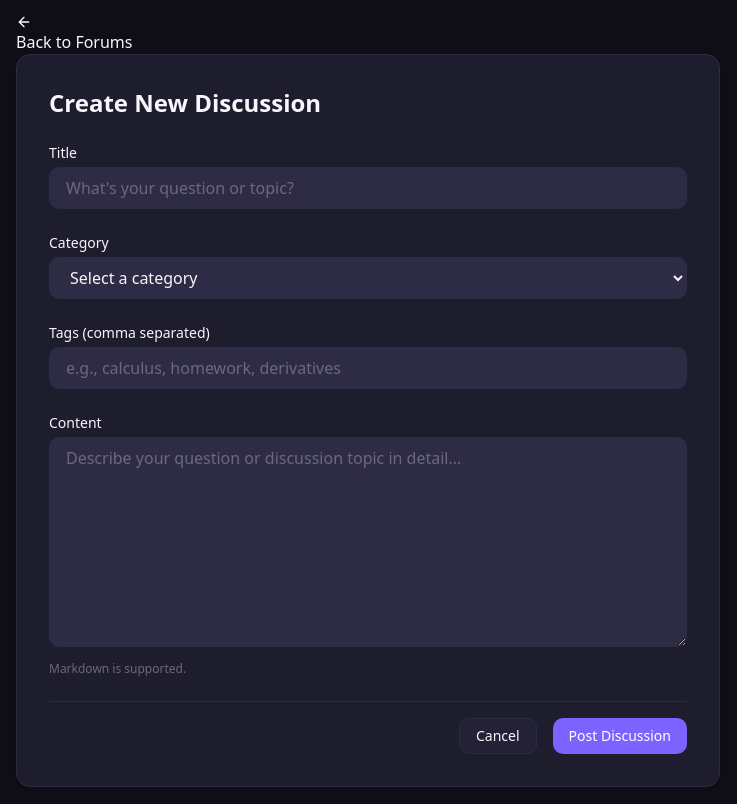
Scenario: CreateForumPostPage › shows spinner on submit button while loading
In the field with placeholder "What's your question or topic?": x=368, y=188 [49, 167, 687, 209], type "How to solve integrals?"
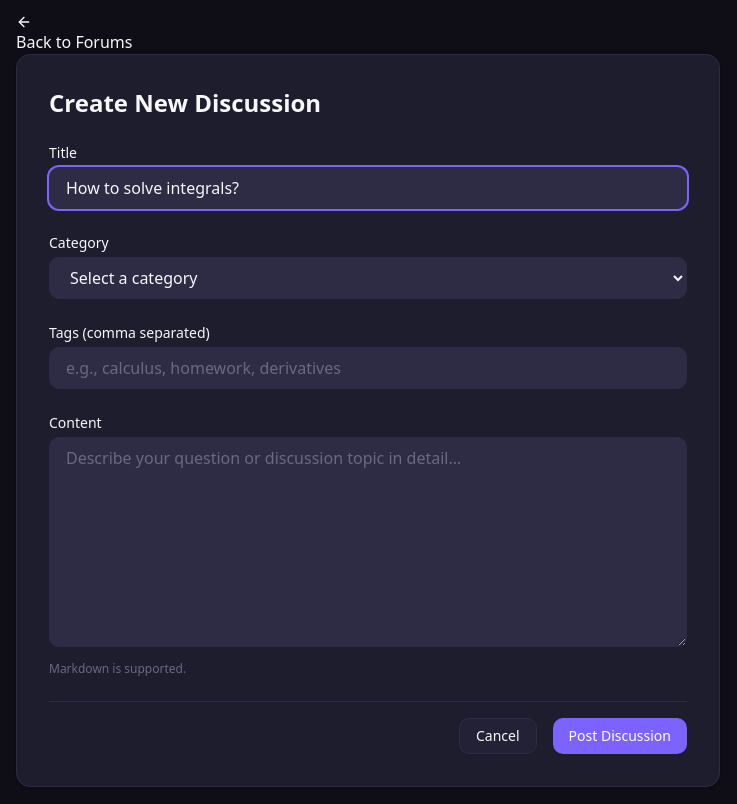
In the text box with placeholder "Describe your question or discussion topic in detail...": x=368, y=542 [49, 437, 687, 647], type "I need help understanding integration by parts."
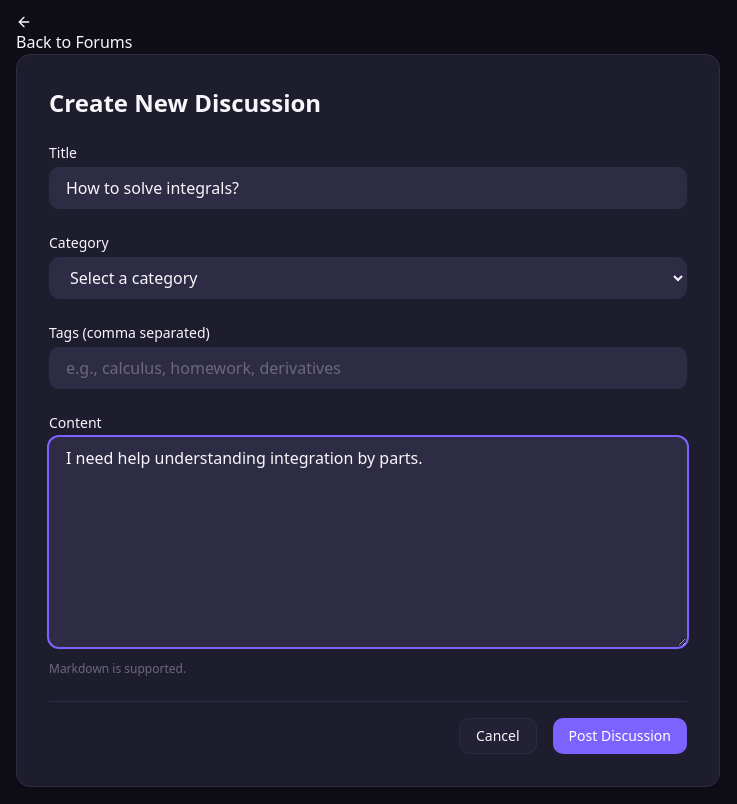
Select "math" in the dropdown: x=368, y=278 [49, 257, 687, 299]
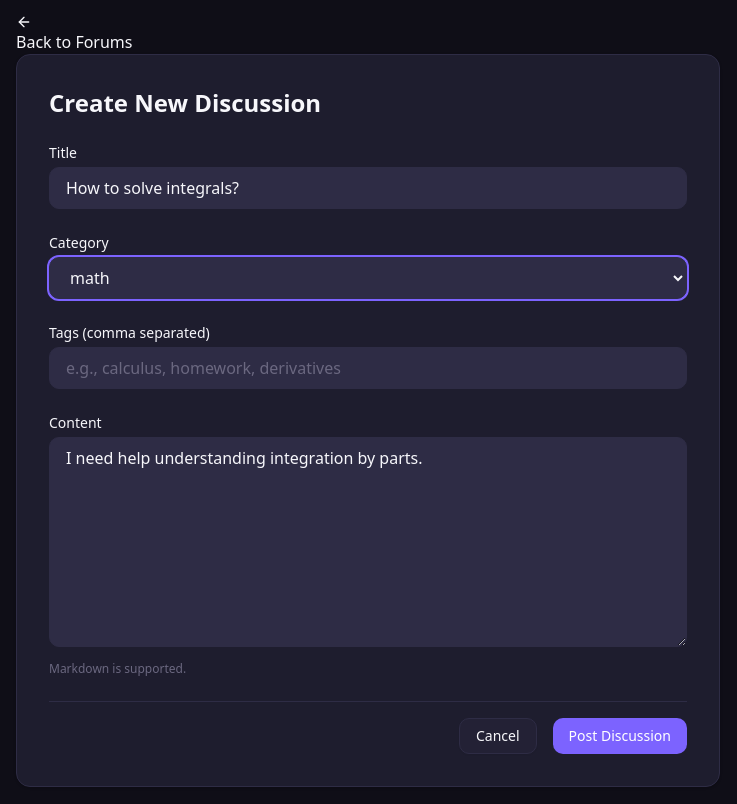
In the field with placeholder "e.g., calculus, homework, derivatives": x=368, y=368 [49, 347, 687, 389], type "calculus"
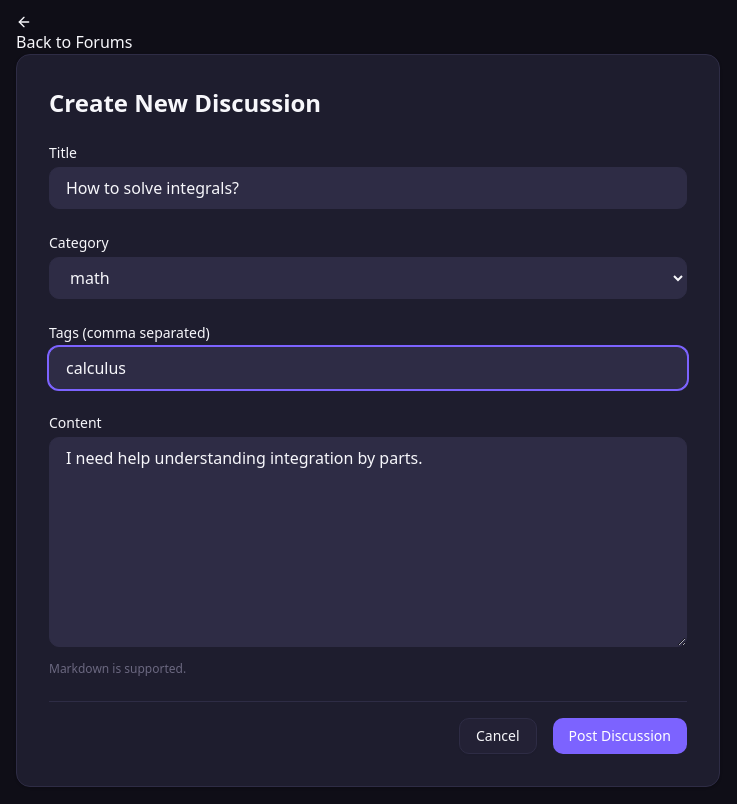
Click the button "Post Discussion": x=620, y=736 [553, 718, 687, 754]
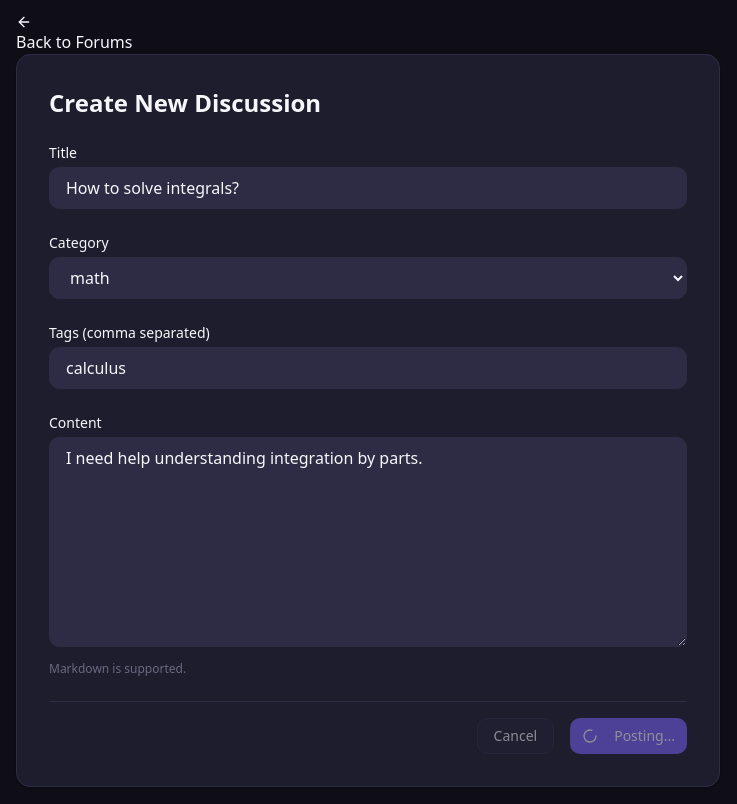
Result: the button "Posting..." is disabled at [570, 718, 687, 754]
